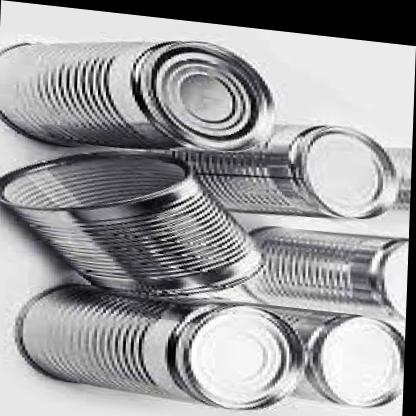Metal: (6, 7, 414, 416)
